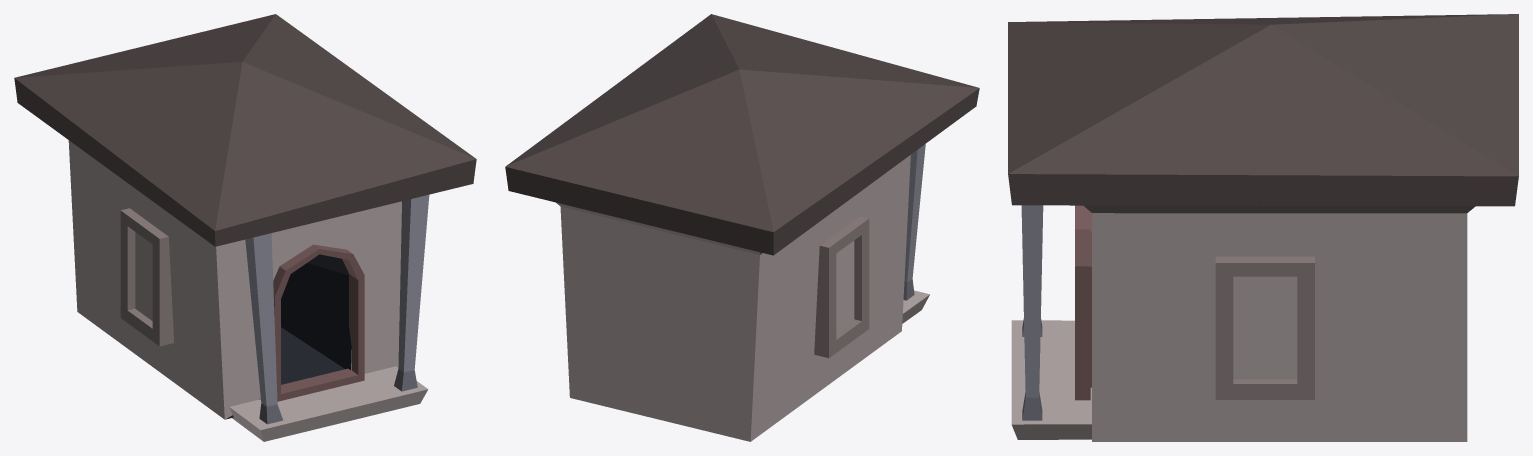
Rendered from HWN20_PetTomb_03.glb.
The picture shows the model from 3 angles, left to right: view 1: azimuth 30°, elevation 25°; view 2: azimuth 150°, elevation 25°; view 3: azimuth 270°, elevation 25°; orthographic projection. The views are drawn at different scales.
Parts seen in each view (by area): view 1: HWN20_PetTomb_03; view 2: HWN20_PetTomb_03; view 3: HWN20_PetTomb_03.
Boxes of the visible parts, box(x1,y1,x2,y2) form: HWN20_PetTomb_03: box(14, 14, 476, 441); HWN20_PetTomb_03: box(505, 14, 979, 441); HWN20_PetTomb_03: box(1008, 14, 1518, 441).
Size of what is drawn, in the model's own units: 1.93 by 2.04 by 2.57.
Materials: 1 (1 with a texture image).
